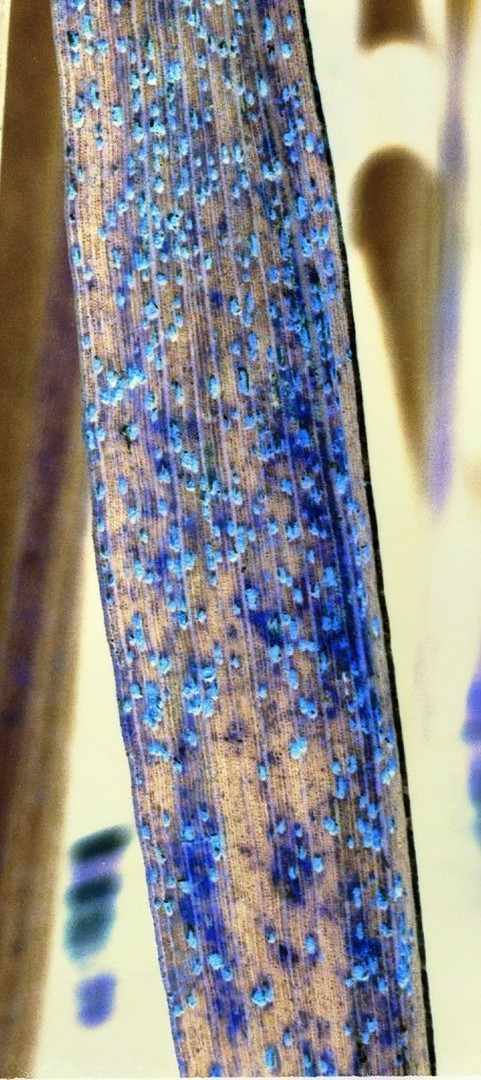Leaf Rust: (46, 59, 457, 1020)
